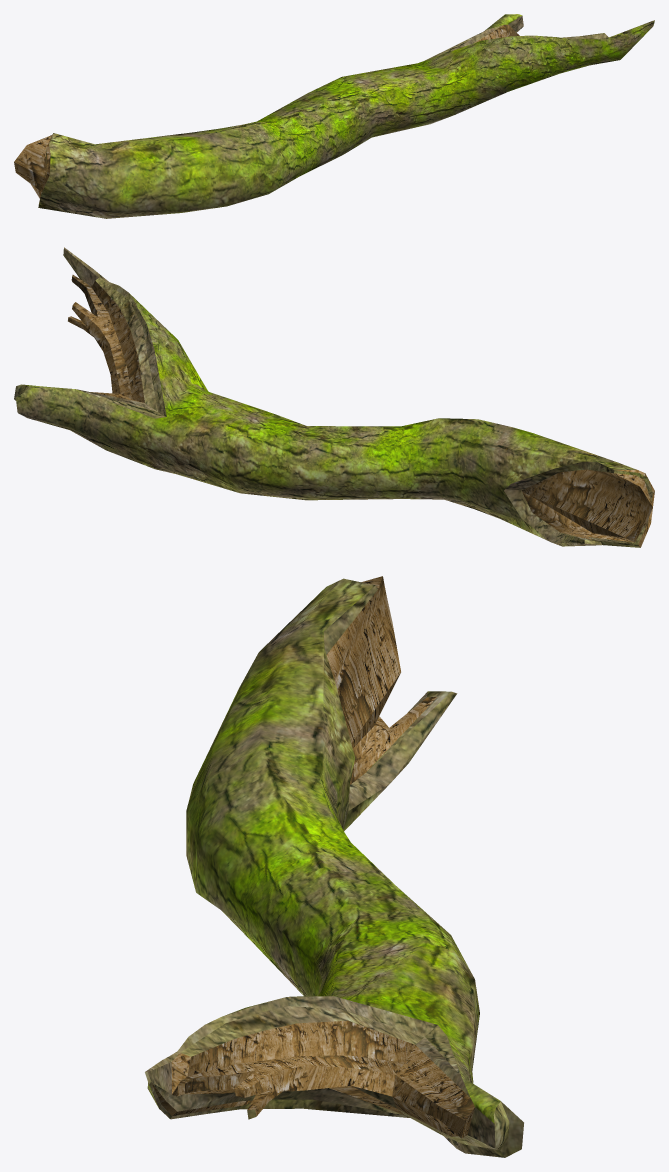
File: sb_obj_ruins010_log02.fbx
The picture shows the model from 3 angles, top to bottom: view 1: azimuth 30°, elevation 25°; view 2: azimuth 150°, elevation 25°; view 3: azimuth 270°, elevation 25°; orthographic projection. The views are drawn at different scales.
Visible parts, largest first — view 1: sb_obj_ruins010_log02; view 2: sb_obj_ruins010_log02; view 3: sb_obj_ruins010_log02.
Boxes of the visible parts, left/top/right/bottom form: sb_obj_ruins010_log02: left=14, top=14, right=654, bottom=218; sb_obj_ruins010_log02: left=14, top=247, right=654, bottom=547; sb_obj_ruins010_log02: left=145, top=576, right=523, bottom=1157.
Size of the model in its own units: 3.07 by 0.5579 by 0.8673.
